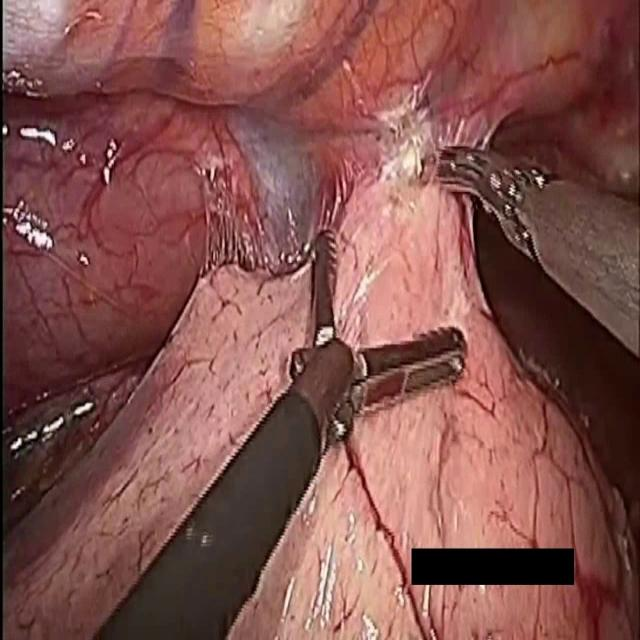surgical-area: (0, 0, 640, 639), (411, 586, 570, 639)
surgical-tool: (93, 224, 468, 639), (436, 144, 640, 359)
